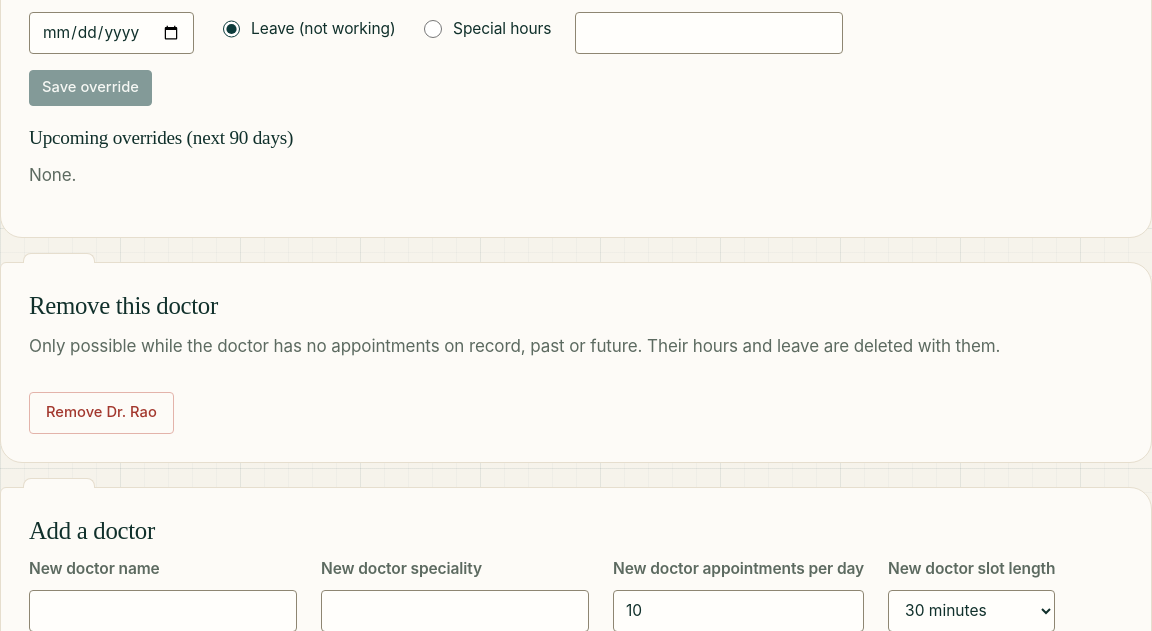
it: adding and removing doctors › asks before removing a doctor and shows the server's refusal
(page scrolled)
Click the button "Remove Dr. Rao" at (101, 413), box [29,392,174,434]
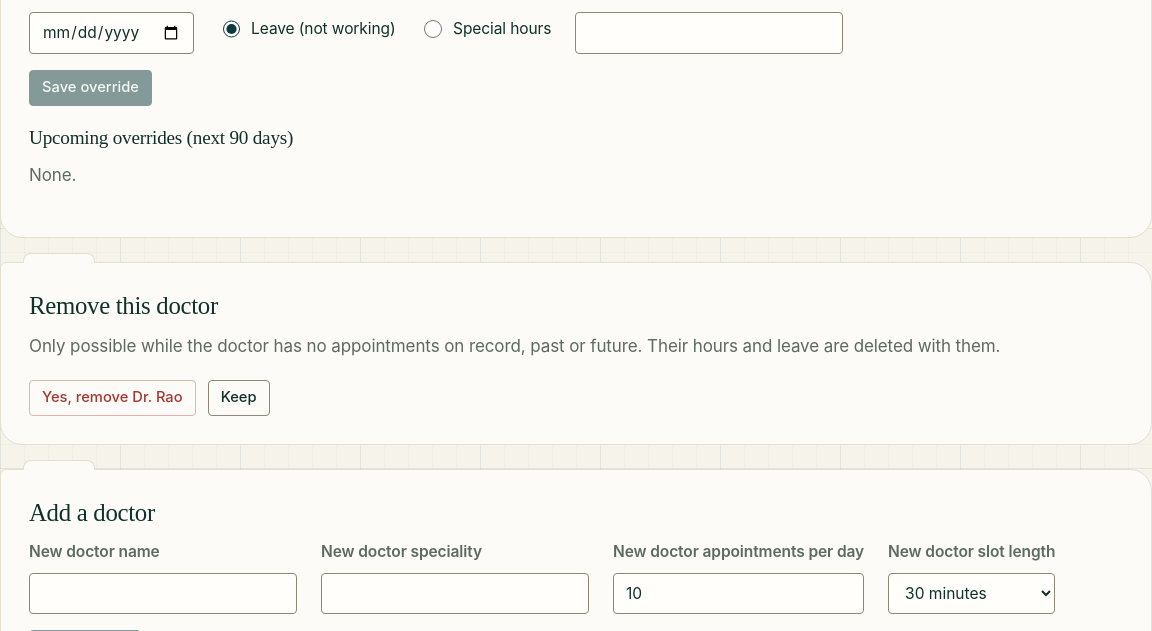
Click the button "Yes, remove Dr. Rao" at (112, 398), box [29,380,196,416]
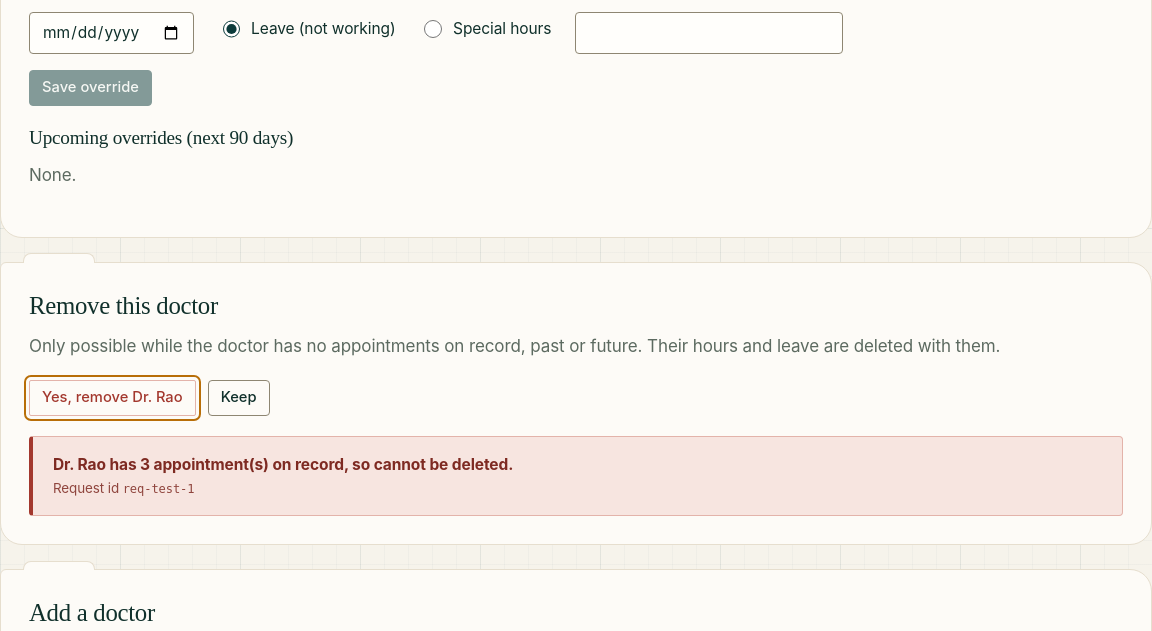
Result: the text "cannot be deleted" is shown at [53,455,513,474]
